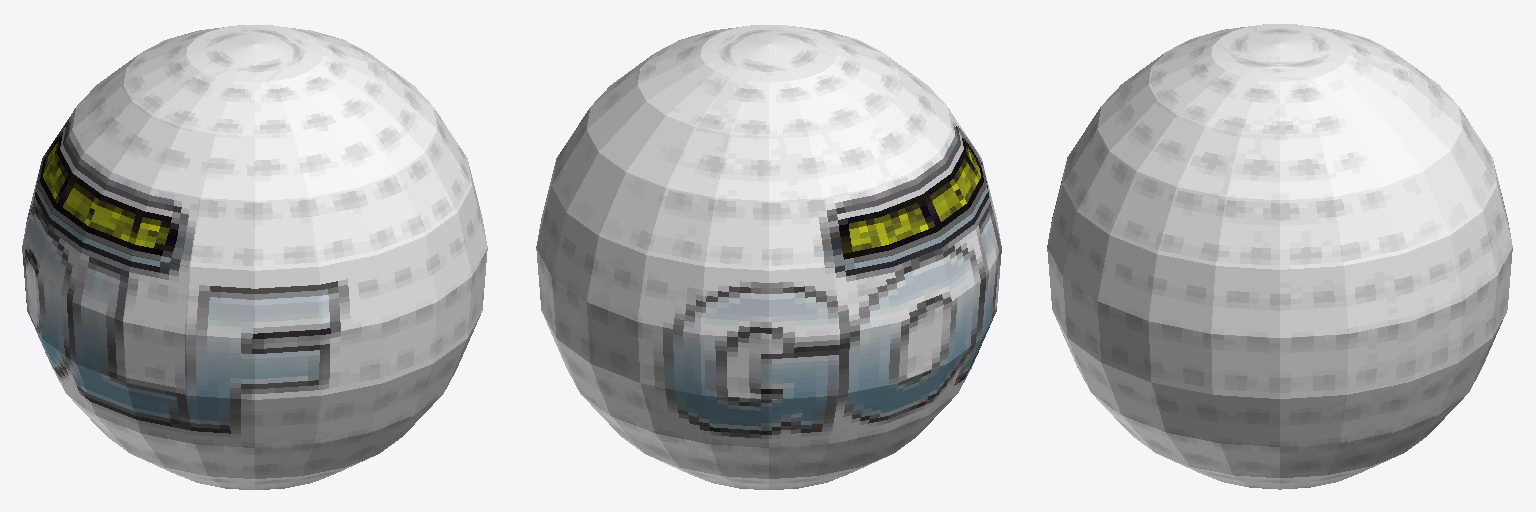
The picture shows the model from 3 angles: view 1: azimuth 30°, elevation 25°; view 2: azimuth 150°, elevation 25°; view 3: azimuth 270°, elevation 25°; orthographic projection.
Bounding box in the file's own units: 3.78 × 3.81 × 3.79.
1 materials, 1 textured.